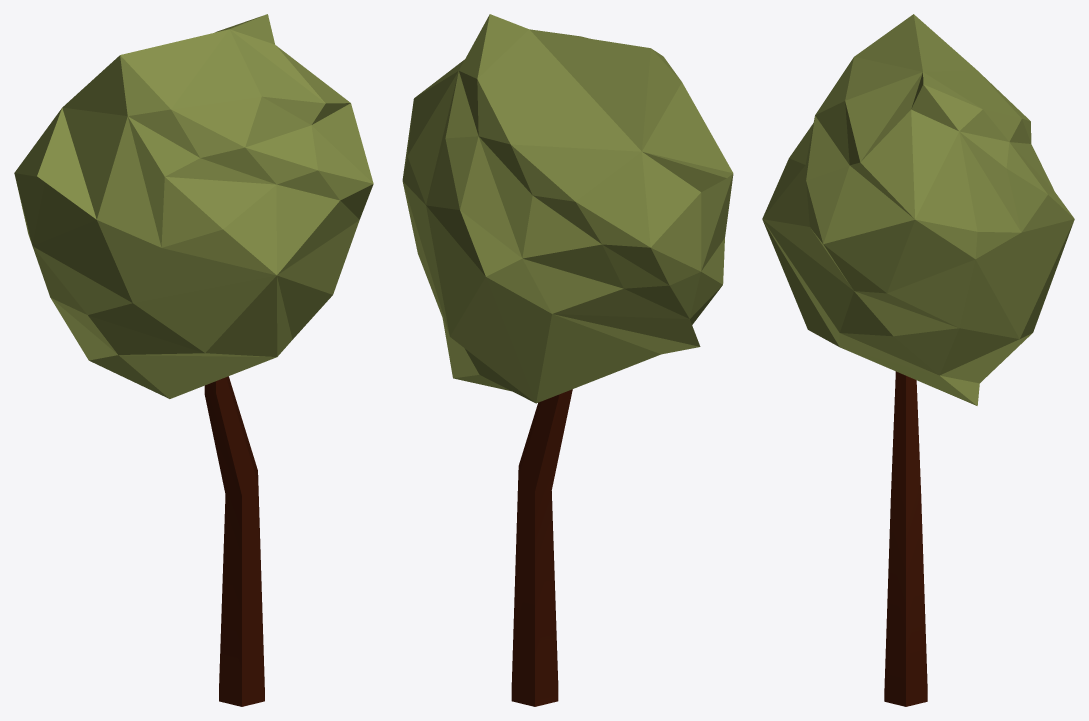
The model's file is tree white.FBX.
The picture shows the model from 3 angles, left to right: view 1: azimuth 30°, elevation 25°; view 2: azimuth 150°, elevation 25°; view 3: azimuth 270°, elevation 25°; orthographic projection. The views are drawn at different scales.
Visible parts, largest first — view 1: tree white; view 2: tree white; view 3: tree white.
Boxes of the visible parts, x1,y1,x2,y2 form: tree white: [14, 14, 373, 706]; tree white: [402, 14, 733, 706]; tree white: [762, 14, 1074, 706].
Size of the model in its own units: 1.56 by 1.44 by 3.19.
